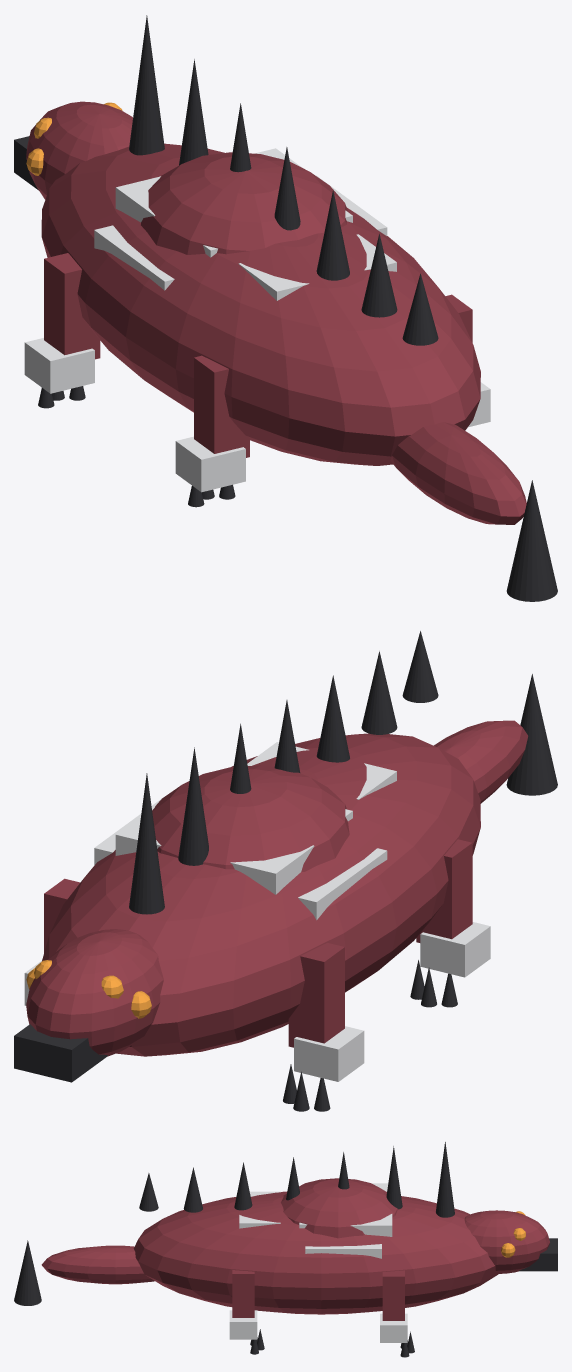
The model's file is SM_Unit_DustStalker.glb.
3 views of the same model, one above another, from view 1: azimuth 30°, elevation 25°; view 2: azimuth 150°, elevation 25°; view 3: azimuth 270°, elevation 25° (orthographic). The views are drawn at different scales.
Visible parts, largest first — view 1: SM_Unit_DustStalker; view 2: SM_Unit_DustStalker; view 3: SM_Unit_DustStalker.
Boxes of the visible parts, bbox=[...] form: SM_Unit_DustStalker: bbox=[14, 15, 557, 601]; SM_Unit_DustStalker: bbox=[14, 631, 557, 1111]; SM_Unit_DustStalker: bbox=[14, 1142, 557, 1357].
Size of the model in its own units: 1.41 by 1.42 by 3.91.
